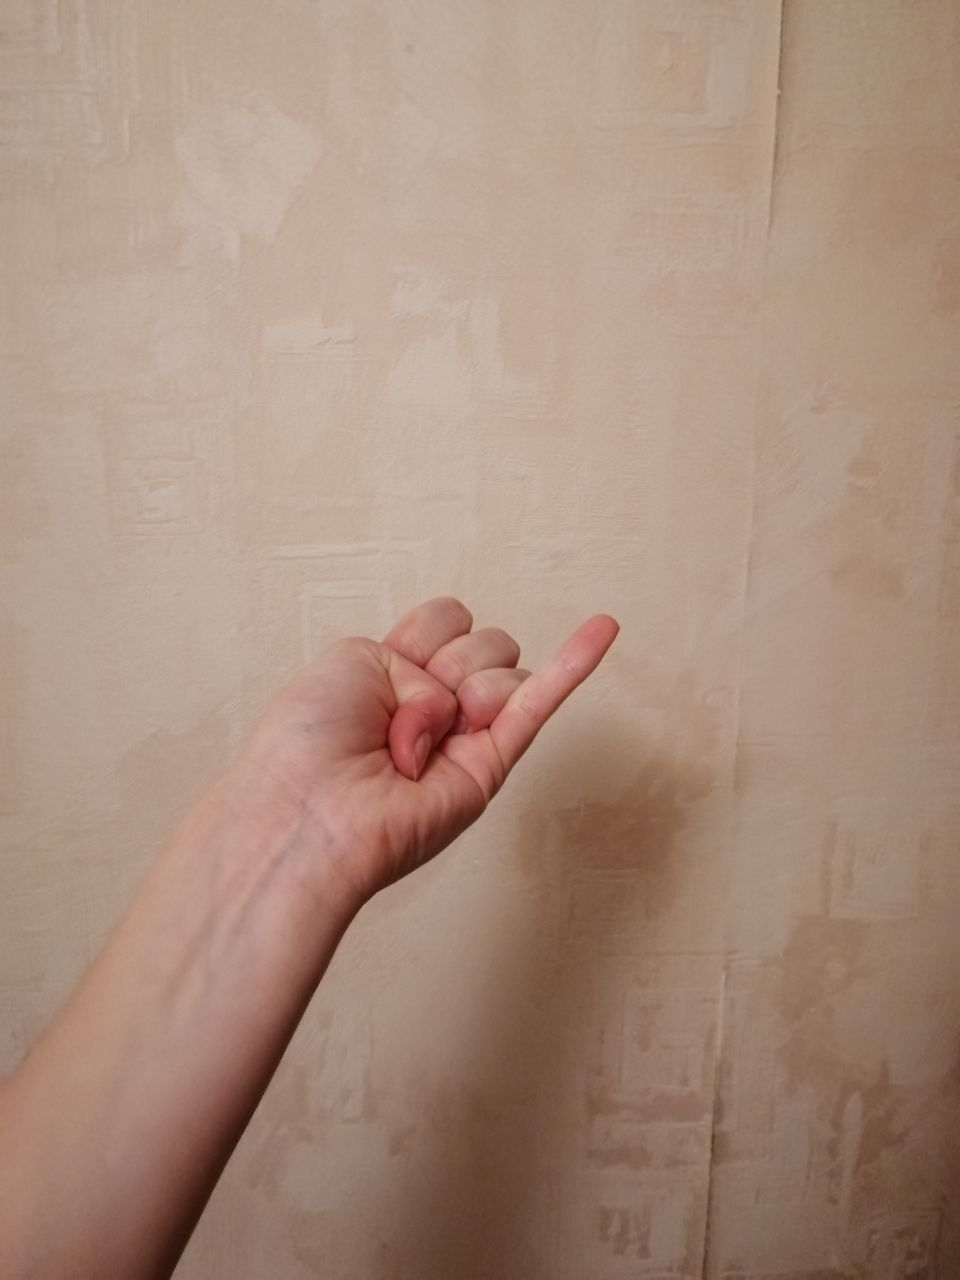hand: (307, 605, 602, 793)
